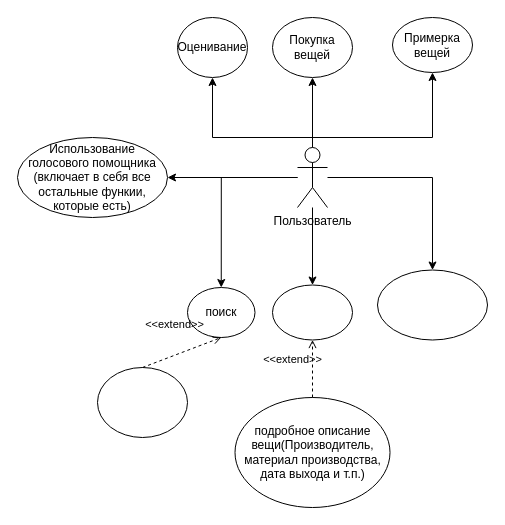
Some shapes in this 505 by 525 pixel diagram are drawn without their labels. Each missing label, with the box of its shape:
Загрузка аватара из базы данных пользователя: (376, 269, 488, 340)
Просмотр вещей: (272, 284, 352, 340)
Расширенный поиск(фильтры): (96, 366, 188, 438)
